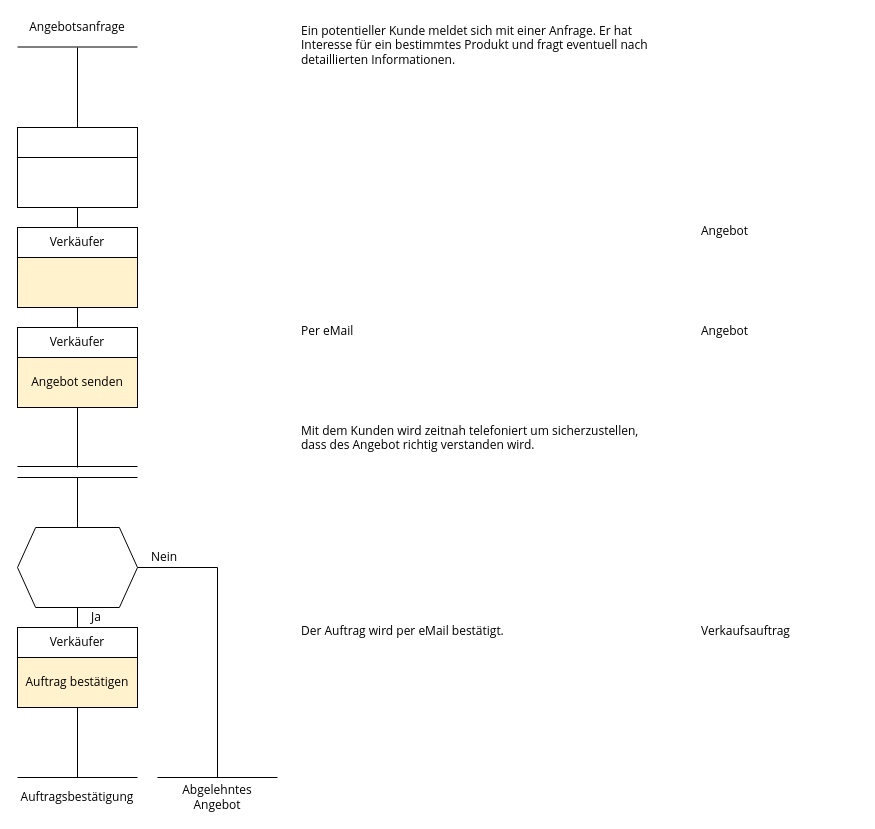
Some shapes in this 875 by 829 pixel diagram are drawn without their labels. The centre of each missing label's shape, as x and y in pixels:
"Anfrage beurteilen" goes at pixel 77 182.
"Angebot angenommen?" goes at pixel 77 567.
"Angebot erstellen" goes at pixel 77 282.
"Vekäufer" goes at pixel 77 142.
